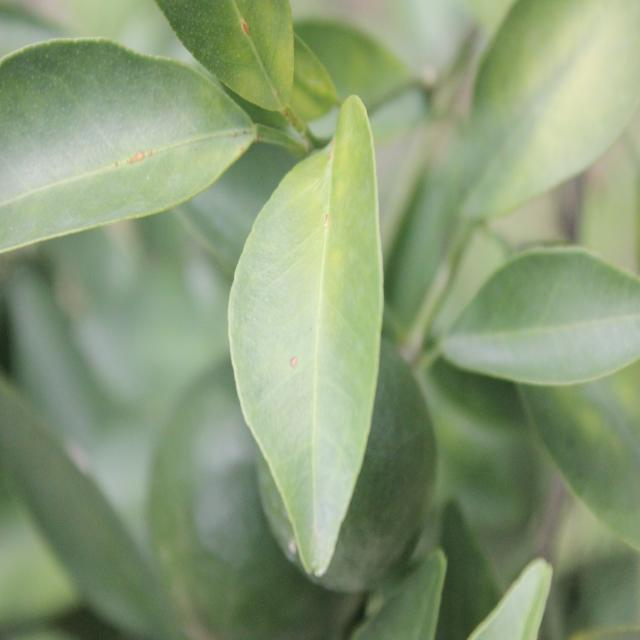greening: (245, 112, 405, 536)
